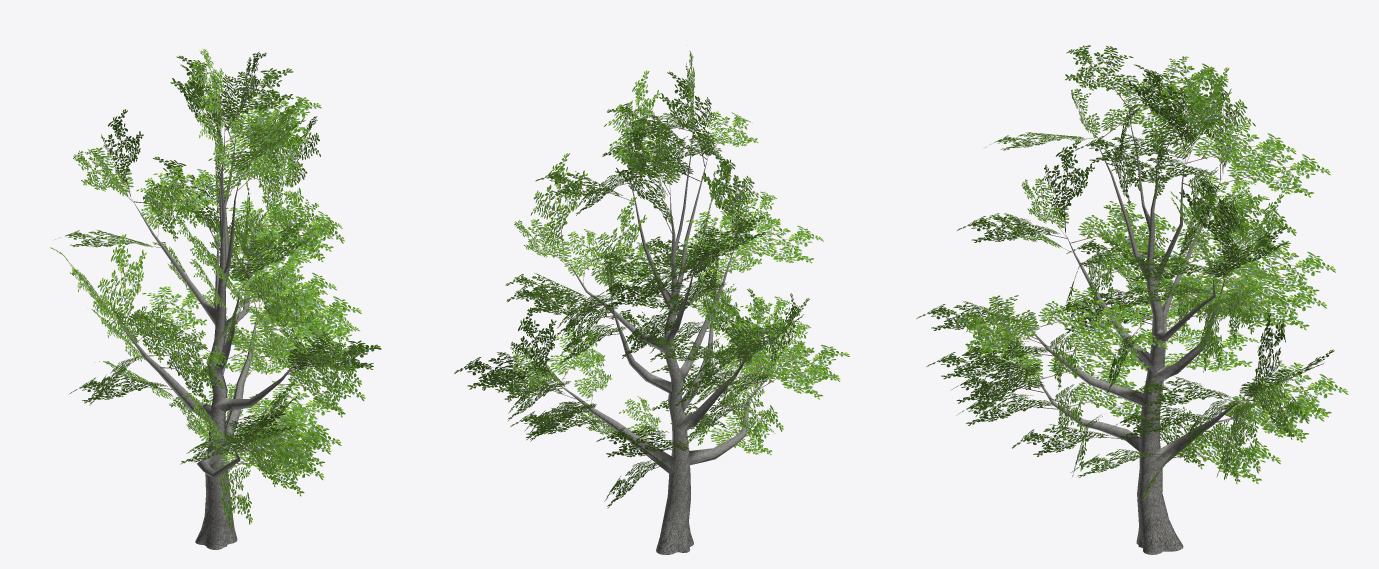
File: TreeUnity.fbx
The picture shows the model from 3 angles, left to right: view 1: azimuth 30°, elevation 25°; view 2: azimuth 150°, elevation 25°; view 3: azimuth 270°, elevation 25°; orthographic projection. The views are drawn at different scales.
Visible parts, largest first — view 1: Leaves, Tree; view 2: Leaves, Tree; view 3: Leaves, Tree.
Part boxes in pixels (left/top/right/bottom): Leaves: left=50, top=48, right=381, bottom=529; Tree: left=116, top=120, right=298, bottom=549; Leaves: left=454, top=50, right=849, bottom=508; Tree: left=561, top=129, right=767, bottom=554; Leaves: left=916, top=45, right=1348, bottom=499; Tree: left=1029, top=99, right=1241, bottom=554.
Bounding box in the file's own units: 1505 × 2108 × 1626.
